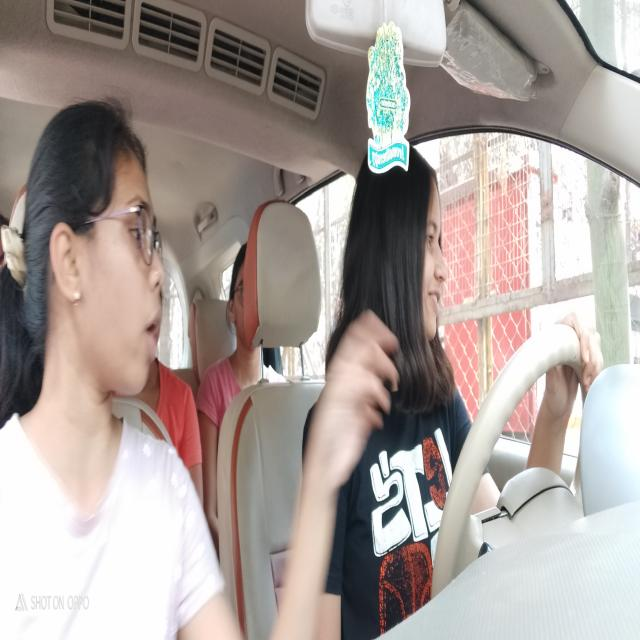person: (38, 104, 170, 406), (366, 125, 455, 387), (224, 237, 262, 373)
